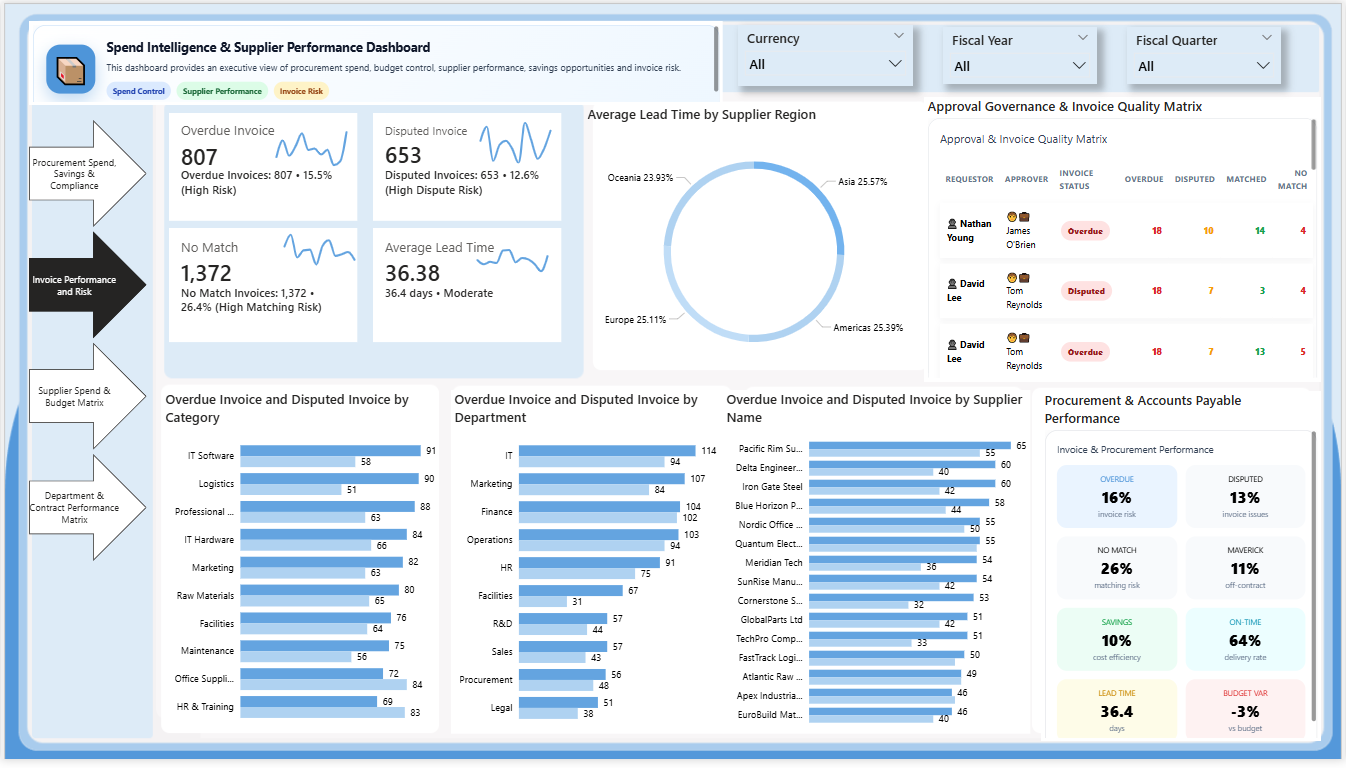

What the dashboard file says about the page in this screenshot:
{"tool":"powerbi","page":{"name":"Invoice Performance and Risk","canvas":[1920,1080],"ordinal":1},"visuals":[{"type":"cardVisual","fields":{"Data":["Dax Measure.Overdue Invoice Count"]},"box":[240,157.1,268.6,154.3],"z":0},{"type":"cardVisual","fields":{"Data":["Dax Measure.Disputed Invoice"]},"box":[531.4,157.1,268.6,154.3],"z":1000},{"type":"cardVisual","fields":{"Data":["Dax Measure.Average Lead Time"]},"box":[531.4,321.4,268.6,162.9],"z":2000},{"type":"cardVisual","fields":{"Data":["Dax Measure.No Match"]},"box":[240,321.4,268.6,162.9],"z":3000},{"type":"lineChart","fields":{"Y":["Dax Measure.Overdue Invoice"],"Category":["Dim_Date.Date.Variation.Date Hierarchy.Year","Dim_Date.Date.Variation.Date Hierarchy.Quarter"]},"box":[378.6,157.1,130,87.1],"z":4000},{"type":"lineChart","fields":{"Y":["Dax Measure.Disputed Invoice"],"Category":["Dim_Date.Date.Variation.Date Hierarchy.Year","Dim_Date.Date.Variation.Date Hierarchy.Quarter"]},"box":[670,157.1,130,77.1],"z":5000},{"type":"lineChart","fields":{"Y":["Dax Measure.No Match"],"Category":["Dim_Date.Date.Variation.Date Hierarchy.Year","Dim_Date.Date.Variation.Date Hierarchy.Quarter"]},"box":[390,311.4,130,87.1],"z":6000},{"type":"lineChart","fields":{"Y":["Dax Measure.Average Lead Time"],"Category":["Dim_Date.Date.Variation.Date Hierarchy.Year","Dim_Date.Date.Variation.Date Hierarchy.Quarter"]},"box":[665.7,321.4,130,72.9],"z":7000},{"type":"clusteredBarChart","fields":{"Category":["Dim_Item.Category","Dim_Contract.Contract Type"],"Y":["Dax Measure.Overdue Invoice","Dax Measure.Disputed Invoice"]},"box":[230,552.9,397.1,490],"z":8000},{"type":"clusteredBarChart","fields":{"Category":["Dim_Department.Department"],"Y":["Dax Measure.Overdue Invoice","Dax Measure.Disputed Invoice"]},"box":[642.9,552.9,388.6,491.4],"z":9000},{"type":"clusteredBarChart","fields":{"Category":["Dim_Supplier.Supplier Name"],"Y":["Dax Measure.Overdue Invoice","Dax Measure.Disputed Invoice"]},"box":[1031.4,552.9,438.6,491.4],"z":10000},{"type":"donutChart","fields":{"Category":["Dim_Supplier.Supplier Region"],"Y":["Dax Measure.Average Lead Time"]},"box":[832.9,145.7,485.7,394.3],"z":11000},{"type":"htmlContent443BE3AD55E043BF878BED274D3A6855","title":"Procurement & Accounts Payable Performance","fields":{"content":["Dax Measure.Overdue Invoice HTML"]},"box":[1485.7,554.3,398.6,500],"z":12000},{"type":"htmlContent443BE3AD55E043BF878BED274D3A6855","title":"Approval Governance & Invoice Quality Matrix","fields":{"content":["Dax Measure.Approval Matrix HTML"]},"box":[1318.6,134.3,565.7,405.7],"z":13000},{"type":"pageNavigator","box":[40,167.1,168.6,632.9],"z":14000},{"type":"slicer","fields":{"Values":["Fact_Procurement.Currency"]},"box":[1052.9,31.4,250,87.1],"z":15000},{"type":"slicer","fields":{"Values":["Dim_Date.Fiscal Year"]},"box":[1345.7,34.3,220,81.4],"z":16000},{"type":"slicer","fields":{"Values":["Dim_Date.Fiscal Quarter"]},"box":[1608.6,34.3,220,81.4],"z":17000},{"type":"htmlContent443BE3AD55E043BF878BED274D3A6855","fields":{"content":["Dax Measure.Dashboard Description HTML"]},"box":[40,25.7,991.4,120],"z":18000}]}

Visuals, with their boxes in screenshot pixels (x1, y1, x2, y2), scaled from the page's 1920x1080 canvas onto the 1346x768 screenshot:
cardVisual - Dax Measure.Overdue Invoice Count: (x1=168, y1=112, x2=357, y2=221)
cardVisual - Dax Measure.Disputed Invoice: (x1=373, y1=112, x2=561, y2=221)
cardVisual - Dax Measure.Average Lead Time: (x1=373, y1=229, x2=561, y2=344)
cardVisual - Dax Measure.No Match: (x1=168, y1=229, x2=357, y2=344)
lineChart - Dax Measure.Overdue Invoice x Dim_Date.Date.Variation.Date Hierarchy.Year: (x1=265, y1=112, x2=357, y2=174)
lineChart - Dax Measure.Disputed Invoice x Dim_Date.Date.Variation.Date Hierarchy.Year: (x1=470, y1=112, x2=561, y2=167)
lineChart - Dax Measure.No Match x Dim_Date.Date.Variation.Date Hierarchy.Year: (x1=273, y1=221, x2=365, y2=283)
lineChart - Dax Measure.Average Lead Time x Dim_Date.Date.Variation.Date Hierarchy.Year: (x1=467, y1=229, x2=558, y2=280)
clusteredBarChart - Dim_Item.Category x Dim_Contract.Contract Type: (x1=161, y1=393, x2=440, y2=742)
clusteredBarChart - Dim_Department.Department x Dax Measure.Overdue Invoice: (x1=451, y1=393, x2=723, y2=743)
clusteredBarChart - Dim_Supplier.Supplier Name x Dax Measure.Overdue Invoice: (x1=723, y1=393, x2=1031, y2=743)
donutChart - Dim_Supplier.Supplier Region x Dax Measure.Average Lead Time: (x1=584, y1=104, x2=924, y2=384)
"Procurement & Accounts Payable Performance" htmlContent443BE3AD55E043BF878BED274D3A6855: (x1=1042, y1=394, x2=1321, y2=750)
"Approval Governance & Invoice Quality Matrix" htmlContent443BE3AD55E043BF878BED274D3A6855: (x1=924, y1=96, x2=1321, y2=384)
pageNavigator: (x1=28, y1=119, x2=146, y2=569)
slicer - Fact_Procurement.Currency: (x1=738, y1=22, x2=913, y2=84)
slicer - Dim_Date.Fiscal Year: (x1=943, y1=24, x2=1098, y2=82)
slicer - Dim_Date.Fiscal Quarter: (x1=1128, y1=24, x2=1282, y2=82)
htmlContent443BE3AD55E043BF878BED274D3A6855 - Dax Measure.Dashboard Description HTML: (x1=28, y1=18, x2=723, y2=104)
